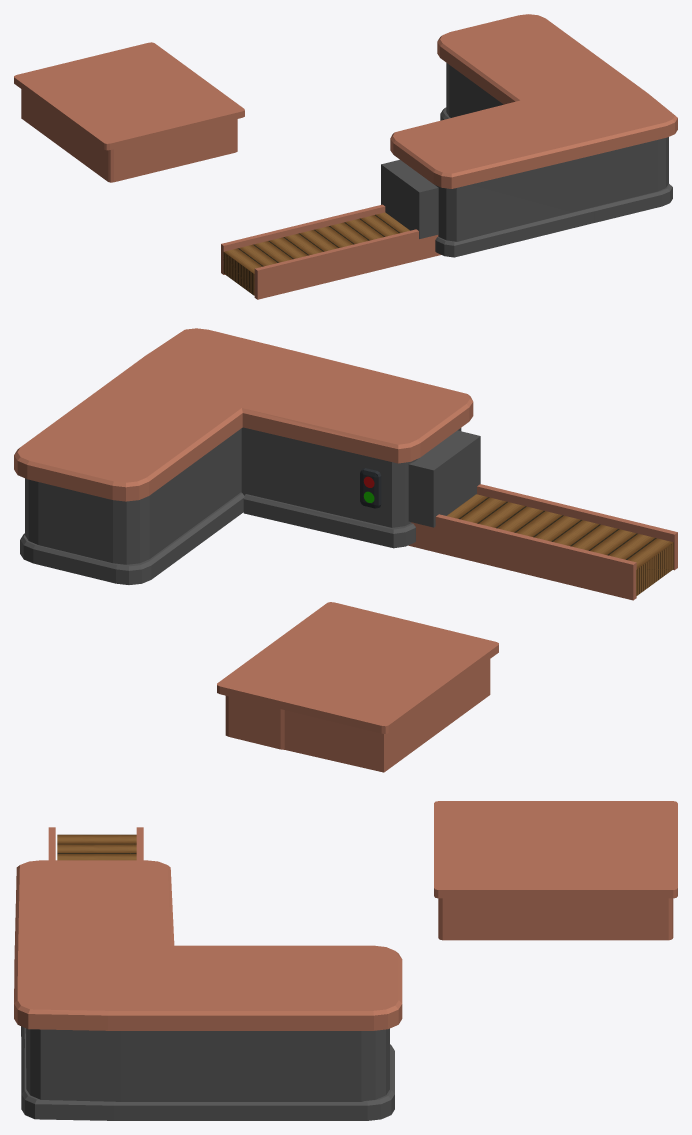
File: HarvestRooms@TableConveyorBelt.fbx
3 views of the same model, one above another, from view 1: azimuth 30°, elevation 25°; view 2: azimuth 150°, elevation 25°; view 3: azimuth 270°, elevation 25° (orthographic). The views are drawn at different scales.
Parts seen in each view (by area): view 1: Top, table_1, Cube_6, Cube_4, Cube_3, Cube_1, Cube_2; view 2: Top, Cube_6, table_1, Cube_2, Cube_3, Cube_1, Cube_4, Cube; view 3: Top, table_1, Cube_6, Cube_3.
Boxes of the visible parts, x1,y1,x2,y2 form: Top: (390,14,677,188); table_1: (14,42,244,182); Cube_6: (435,63,672,257); Cube_4: (254,229,440,299); Cube_3: (223,212,409,295); Cube_1: (381,160,438,239); Cube_2: (221,204,385,274); Top: (14,328,473,501); Cube_6: (20,427,461,584); table_1: (217,602,498,772); Cube_2: (408,514,636,600); Cube_3: (447,494,673,596); Cube_1: (408,430,480,527); Cube_4: (477,484,677,570); Cube: (360,468,381,508); Top: (14,860,402,1030); table_1: (434,801,677,940); Cube_6: (21,1026,394,1120); Cube_3: (57,834,136,860).
Bounding box in the file's own units: 537 × 110 × 567.
Materials: 6 (1 with a texture image).
